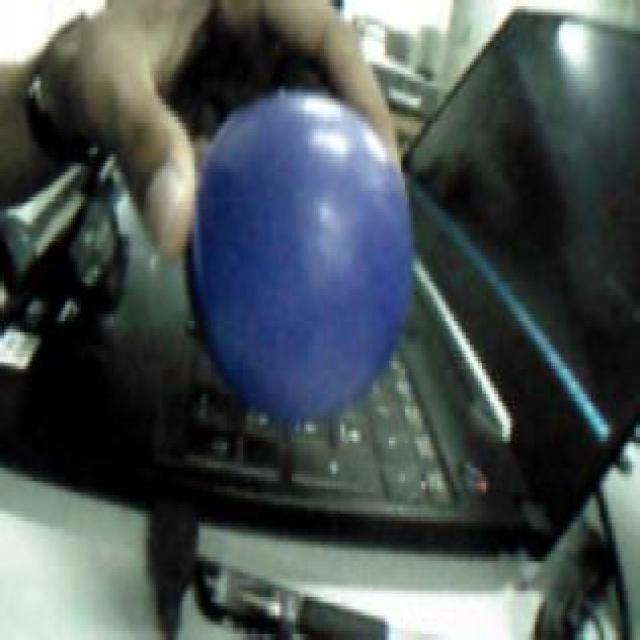BallPurple: (188, 88, 414, 426)
